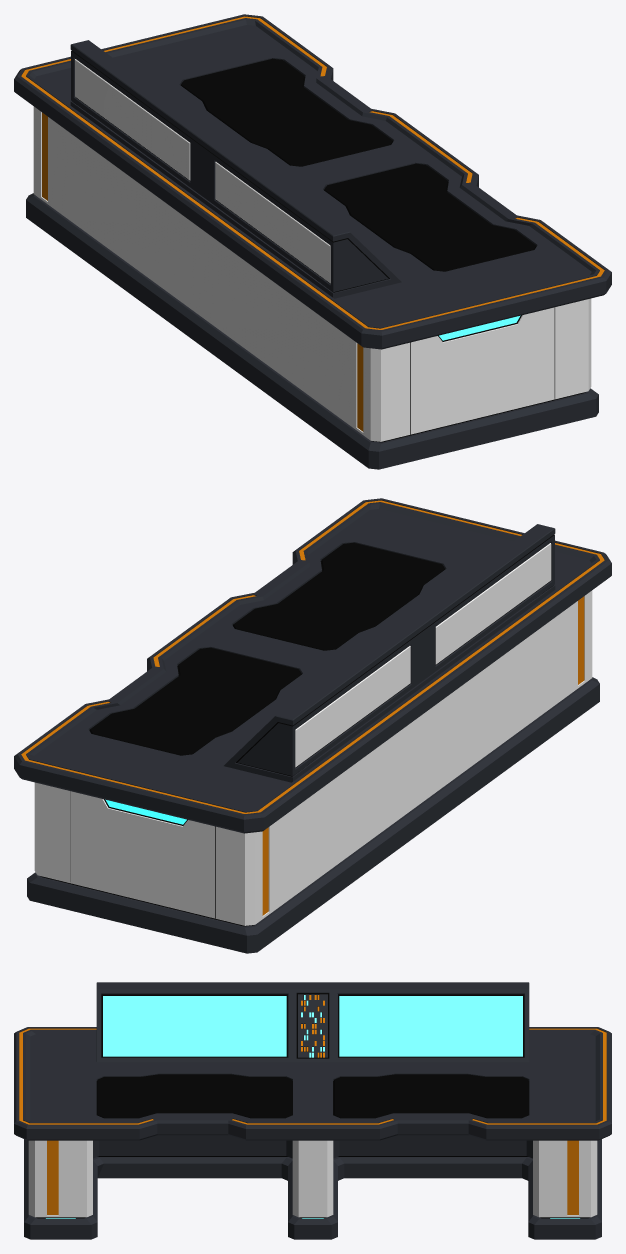
Rendered from control_desk.glb.
3 views of the same model, one above another, from view 1: azimuth 30°, elevation 25°; view 2: azimuth 150°, elevation 25°; view 3: azimuth 270°, elevation 25° (orthographic). The views are drawn at different scales.
Visible parts, largest first — view 1: SM_Large_Control_Desk; view 2: SM_Large_Control_Desk; view 3: SM_Large_Control_Desk.
Boxes of the visible parts, box(x1,y1,x2,y2) form: SM_Large_Control_Desk: box(14, 14, 611, 469); SM_Large_Control_Desk: box(14, 498, 611, 953); SM_Large_Control_Desk: box(14, 982, 611, 1239).
Bounding box in the file's own units: 1.47 × 1.13 × 3.68.
